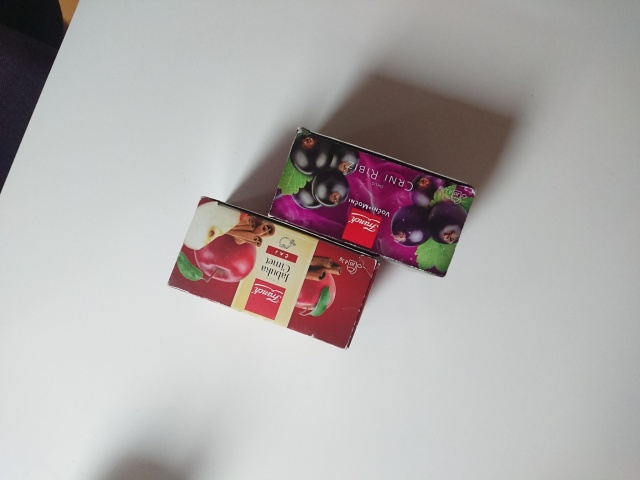Franck Apple Cinnamon Tea 60g: (165, 192, 384, 352)
Franck Black Currant Tea 60g: (265, 122, 479, 280)
